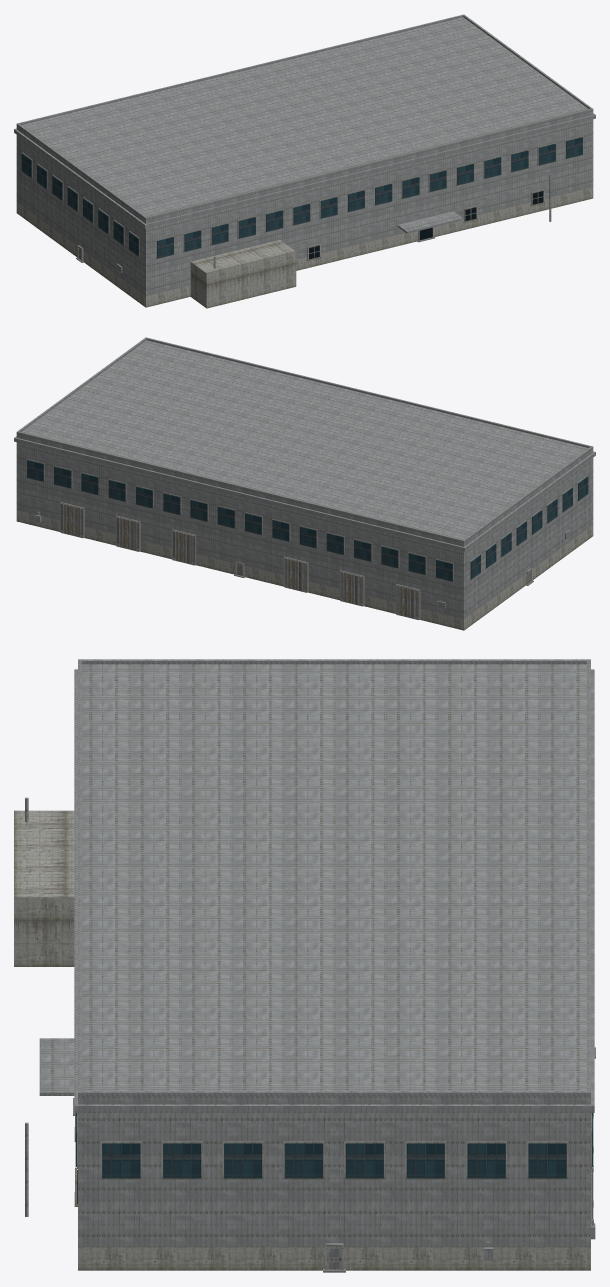
File: ironport-distribution-center_lod0.gltf
The picture shows the model from 3 angles, top to bottom: view 1: azimuth 30°, elevation 25°; view 2: azimuth 150°, elevation 25°; view 3: azimuth 270°, elevation 25°; orthographic projection. The views are drawn at different scales.
Parts seen in each view (by area): view 1: ironport-distribution-center_upper, ironport-distribution-center_fen_07-glass-curtain-blue_1, ironport-distribution-center_base, ironport-distribution-center__office_block, ironport-distribution-center__cornice, ironport-distribution-center_fen_16-concrete-weathered_0, ironport-distribution-center__parapet_front, ironport-distribution-center__parapet_back, ironport-distribution-center__entry_canopy, ironport-distribution-center_fen_07-glass-curtain-blue_2_t, ironport-distribution-center__parapet_left, ironport-distribution-center__parapet_right; view 2: ironport-distribution-center_upper, ironport-distribution-center_fen_07-glass-curtain-blue_1, ironport-distribution-center_base, ironport-distribution-center_fen_21-corrugated-steel_6, ironport-distribution-center__cornice, ironport-distribution-center_fen_16-concrete-weathered_0, ironport-distribution-center__parapet_back, ironport-distribution-center__parapet_front, ironport-distribution-center_fen_15-concrete-boardformed_5, ironport-distribution-center__parapet_left, ironport-distribution-center__parapet_right; view 3: ironport-distribution-center_upper, ironport-distribution-center_base, ironport-distribution-center_fen_07-glass-curtain-blue_1, ironport-distribution-center__office_block, ironport-distribution-center__cornice, ironport-distribution-center_fen_16-concrete-weathered_0, ironport-distribution-center__parapet_left, ironport-distribution-center__parapet_right, ironport-distribution-center__entry_canopy, ironport-distribution-center__parapet_front, ironport-distribution-center__parapet_back.
Boxes of the visible parts, bbox=[...] form: ironport-distribution-center_upper: bbox=[16, 17, 593, 295]; ironport-distribution-center_fen_07-glass-curtain-blue_1: bbox=[21, 137, 582, 258]; ironport-distribution-center_base: bbox=[16, 187, 593, 307]; ironport-distribution-center__office_block: bbox=[190, 240, 296, 308]; ironport-distribution-center__cornice: bbox=[14, 113, 595, 228]; ironport-distribution-center_fen_16-concrete-weathered_0: bbox=[21, 136, 583, 261]; ironport-distribution-center__parapet_front: bbox=[145, 108, 593, 219]; ironport-distribution-center__parapet_back: bbox=[16, 14, 464, 125]; ironport-distribution-center__entry_canopy: bbox=[397, 211, 463, 233]; ironport-distribution-center_fen_07-glass-curtain-blue_2_t: bbox=[309, 191, 543, 259]; ironport-distribution-center__parapet_left: bbox=[17, 124, 145, 218]; ironport-distribution-center__parapet_right: bbox=[463, 15, 591, 108]; ironport-distribution-center_upper: bbox=[16, 340, 593, 618]; ironport-distribution-center_fen_07-glass-curtain-blue_1: bbox=[27, 460, 588, 581]; ironport-distribution-center_base: bbox=[16, 510, 593, 630]; ironport-distribution-center_fen_21-corrugated-steel_6: bbox=[60, 503, 418, 619]; ironport-distribution-center__cornice: bbox=[14, 436, 595, 551]; ironport-distribution-center_fen_16-concrete-weathered_0: bbox=[26, 459, 588, 584]; ironport-distribution-center__parapet_back: bbox=[16, 431, 464, 542]; ironport-distribution-center__parapet_front: bbox=[145, 337, 593, 448]; ironport-distribution-center_fen_15-concrete-boardformed_5: bbox=[60, 502, 420, 619]; ironport-distribution-center__parapet_left: bbox=[464, 447, 592, 541]; ironport-distribution-center__parapet_right: bbox=[18, 338, 146, 431]; ironport-distribution-center_upper: bbox=[78, 664, 590, 1247]; ironport-distribution-center_base: bbox=[78, 1247, 590, 1270]; ironport-distribution-center_fen_07-glass-curtain-blue_1: bbox=[75, 1113, 593, 1178]; ironport-distribution-center__office_block: bbox=[14, 810, 74, 966]; ironport-distribution-center__cornice: bbox=[74, 669, 594, 1112]; ironport-distribution-center_fen_16-concrete-weathered_0: bbox=[74, 1113, 591, 1269]; ironport-distribution-center__parapet_left: bbox=[82, 659, 586, 664]; ironport-distribution-center__parapet_right: bbox=[82, 1091, 586, 1096]; ironport-distribution-center__entry_canopy: bbox=[39, 1038, 74, 1095]; ironport-distribution-center__parapet_front: bbox=[78, 659, 81, 1096]; ironport-distribution-center__parapet_back: bbox=[587, 659, 590, 1096].
Bounding box in the file's own units: 80.8 × 15.3 × 45.4.
